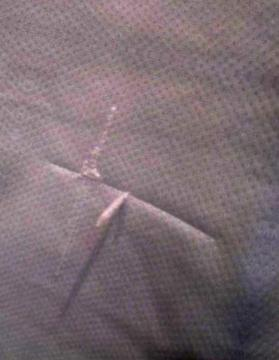snag: (84, 181, 141, 238)
